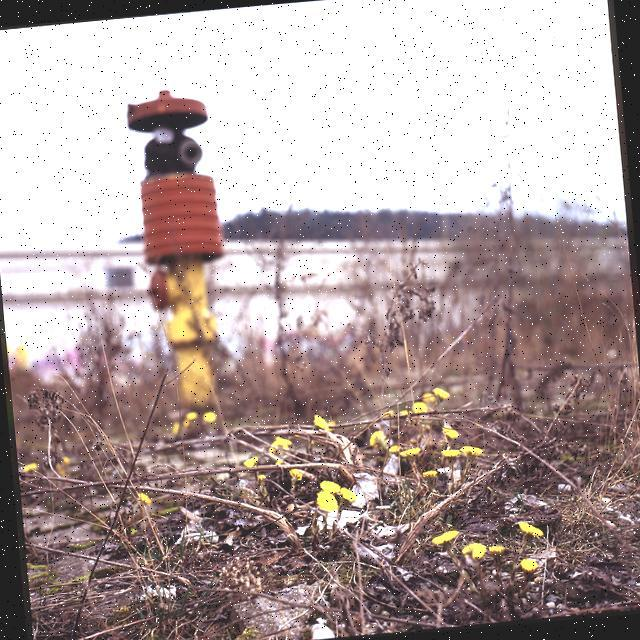fire_hydrant: (124, 84, 240, 443)
